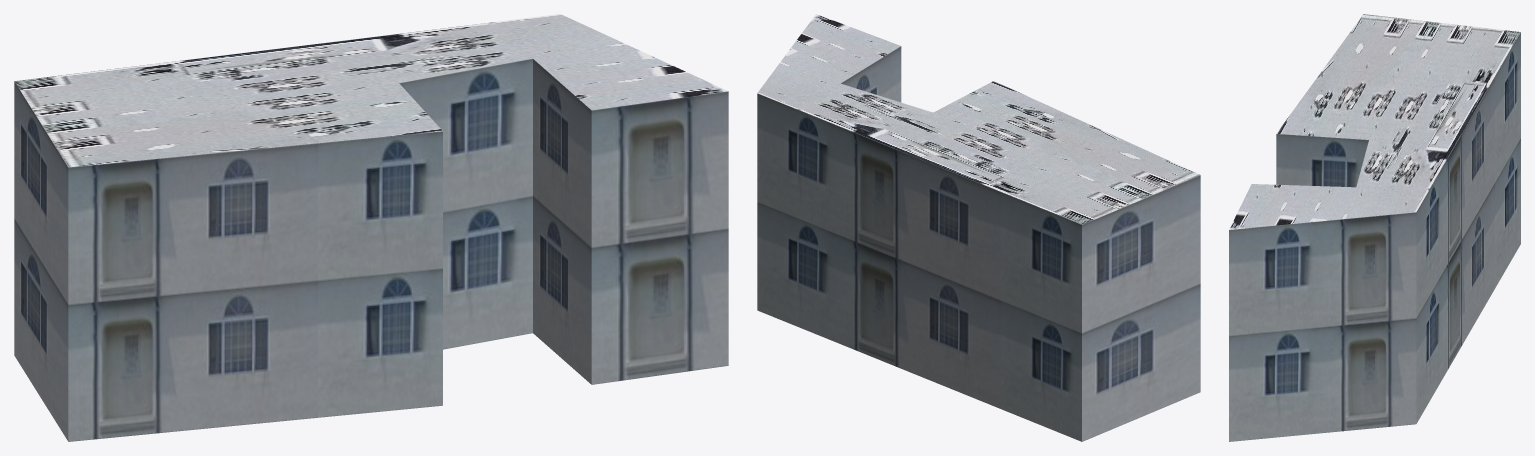
File: ResTex__519.fbx
3 views of the same model, side by side, from view 1: azimuth 30°, elevation 25°; view 2: azimuth 150°, elevation 25°; view 3: azimuth 270°, elevation 25° (orthographic). The views are drawn at different scales.
Parts seen in each view (by area): view 1: CityEngineMaterial_17_m, CityEngineMaterial_4_m; view 2: CityEngineMaterial_17_m, CityEngineMaterial_4_m; view 3: CityEngineMaterial_17_m, CityEngineMaterial_4_m.
Boxes of the visible parts, x1,y1,x2,y2 form: CityEngineMaterial_17_m: (14,58,728,441); CityEngineMaterial_4_m: (14,14,727,167); CityEngineMaterial_17_m: (757,46,1200,441); CityEngineMaterial_4_m: (757,14,1199,224); CityEngineMaterial_17_m: (1229,32,1520,441); CityEngineMaterial_4_m: (1229,14,1520,229).
Bounding box in the file's own units: 13.11 × 6 × 7.49.
2 materials, 2 textured.
